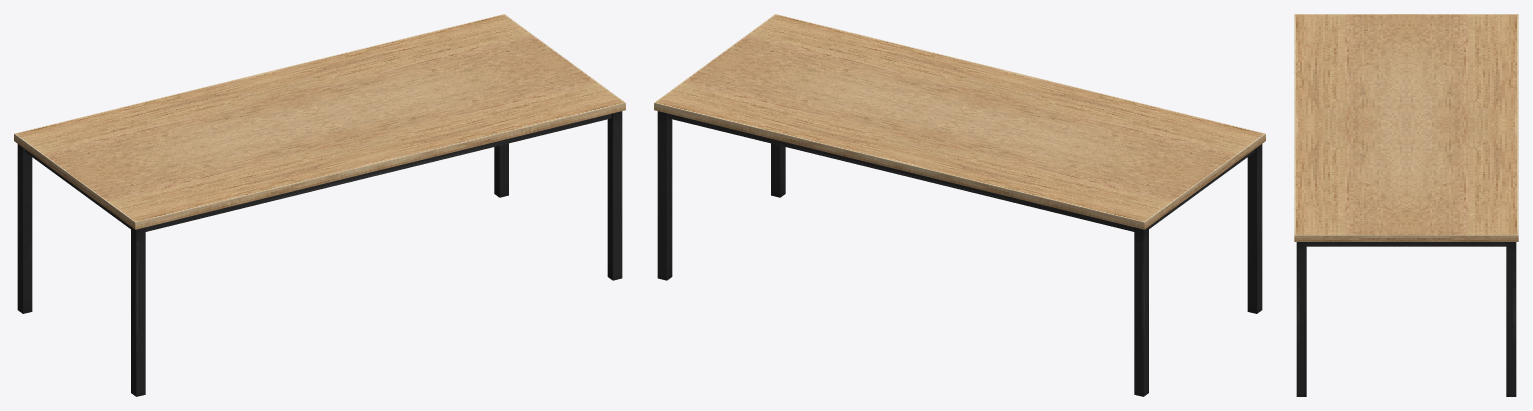
File: MeetingTable.glb
The picture shows the model from 3 angles, left to right: view 1: azimuth 30°, elevation 25°; view 2: azimuth 150°, elevation 25°; view 3: azimuth 270°, elevation 25°; orthographic projection. The views are drawn at different scales.
Visible parts, largest first — view 1: meeting table; view 2: meeting table; view 3: meeting table.
Boxes of the visible parts, bbox=[...] form: meeting table: bbox=[14, 14, 625, 396]; meeting table: bbox=[654, 14, 1265, 396]; meeting table: bbox=[1294, 14, 1518, 396].
Bounding box in the file's own units: 2.1 × 0.72 × 0.9.
Materials: 1 (1 with a texture image).
